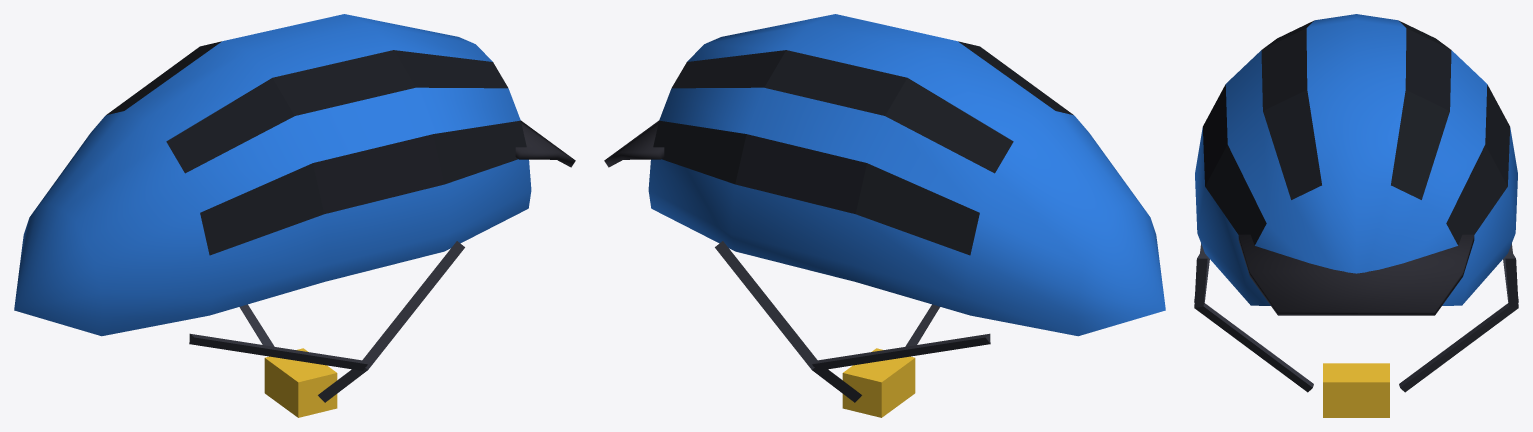
Rendered from outdoors-bikeHelmet.glb.
3 renders of one model, left to right at view 1: azimuth 30°, elevation 25°; view 2: azimuth 150°, elevation 25°; view 3: azimuth 270°, elevation 25°, orthographic.
Parts seen in each view (by area): view 1: outdoors.bikeHelmet; view 2: outdoors.bikeHelmet; view 3: outdoors.bikeHelmet.
Boxes of the visible parts, box(x1,y1,x2,y2) form: outdoors.bikeHelmet: box(14, 14, 575, 417); outdoors.bikeHelmet: box(604, 14, 1165, 417); outdoors.bikeHelmet: box(1194, 14, 1518, 417).
Size of the model in its own units: 1.92 by 1.27 by 1.04.
6 materials, 2 textured.
